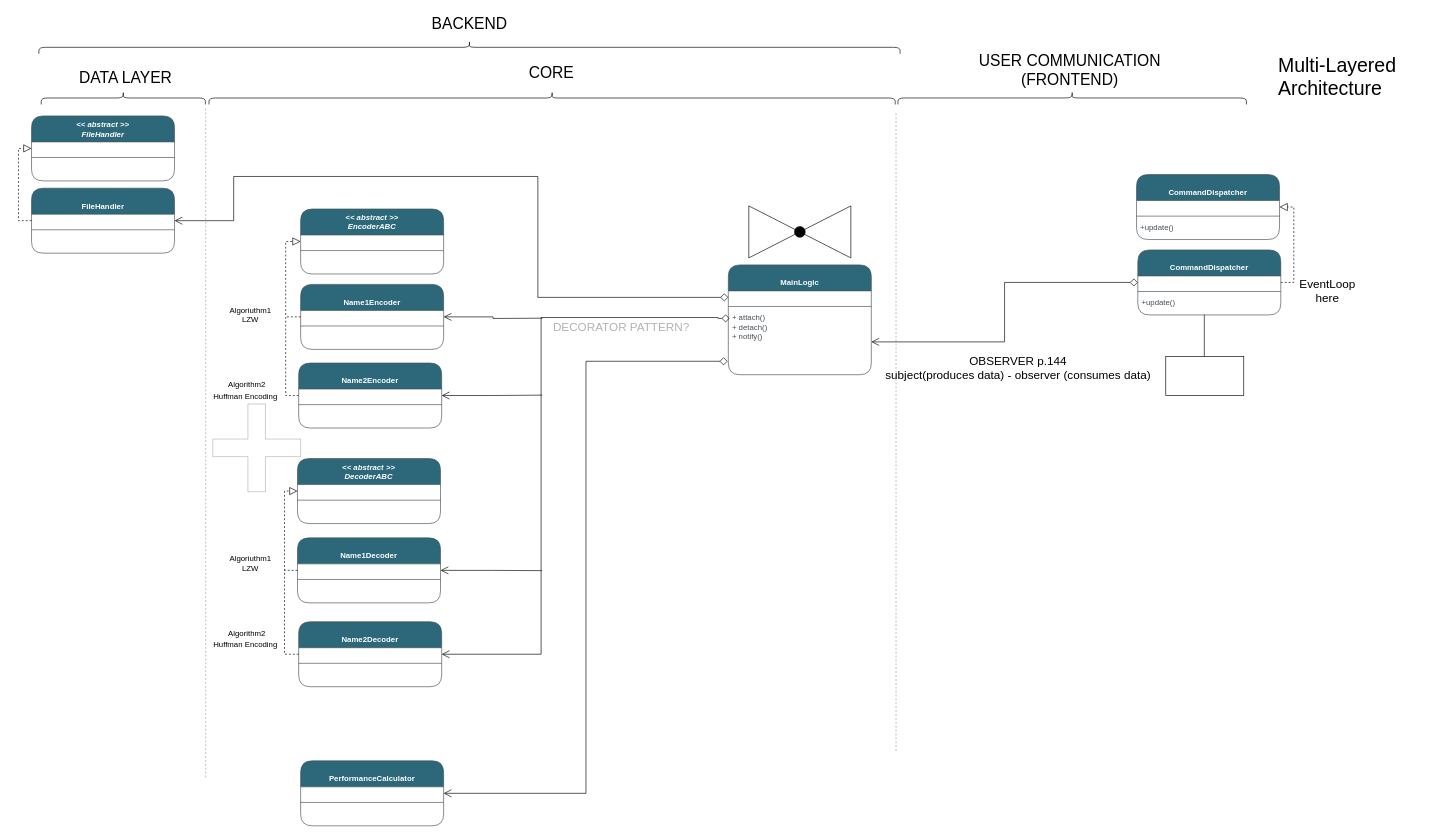
This 1453x838 diagram has some shape labels left out. The shapes that lost their labels are listed below. From the top down, each one's centre as x and y in pixels, then its label:
At [1204,376]: "main.py".
At [256,447]: "unite as Algorithm with methods encode/decode?".
